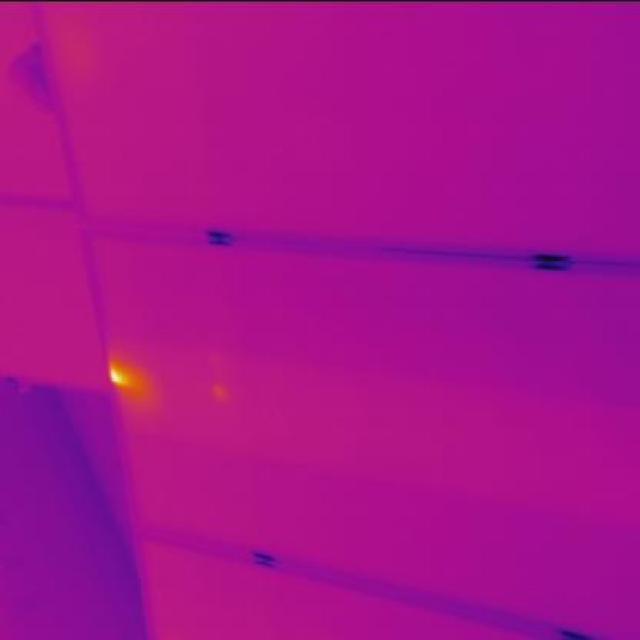hotspot: (102, 351, 161, 402)
